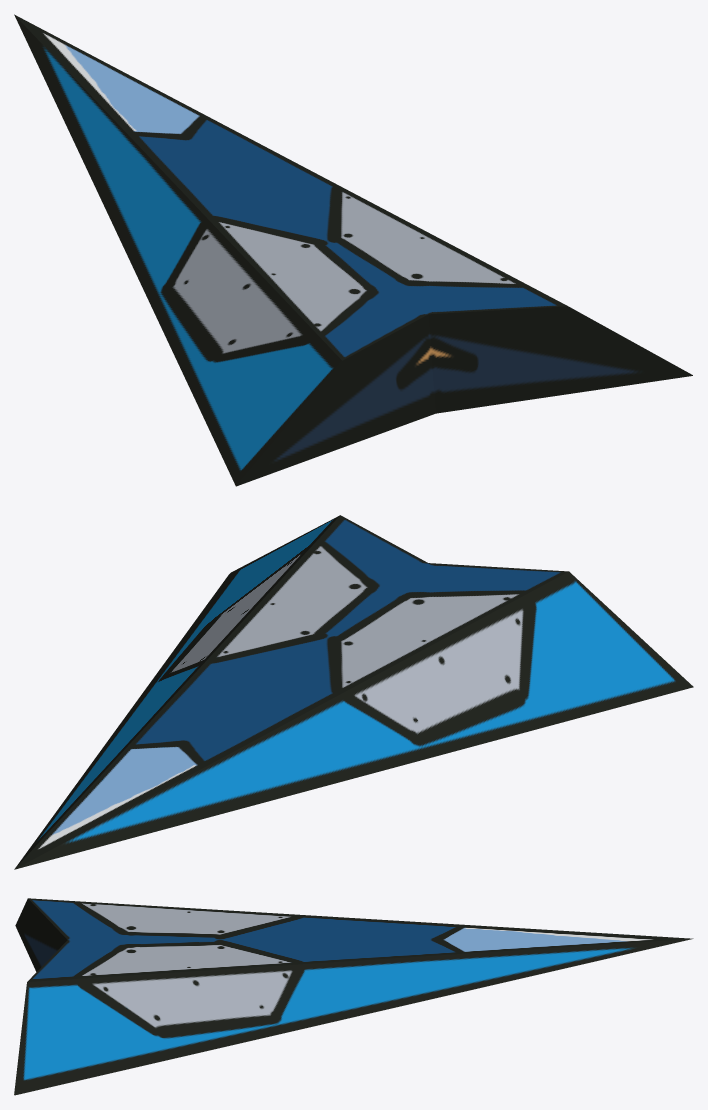
File: ship_1.fbx
3 views of the same model, one above another, from view 1: azimuth 30°, elevation 25°; view 2: azimuth 150°, elevation 25°; view 3: azimuth 270°, elevation 25° (orthographic). The views are drawn at different scales.
Visible parts, largest first — view 1: ship; view 2: ship; view 3: ship.
Part boxes in pixels (box(x1,y1,x2,y2)): ship: box(14, 14, 692, 486); ship: box(14, 515, 693, 869); ship: box(14, 898, 693, 1095).
Bounding box in the file's own units: 94.06 × 18.06 × 159.
